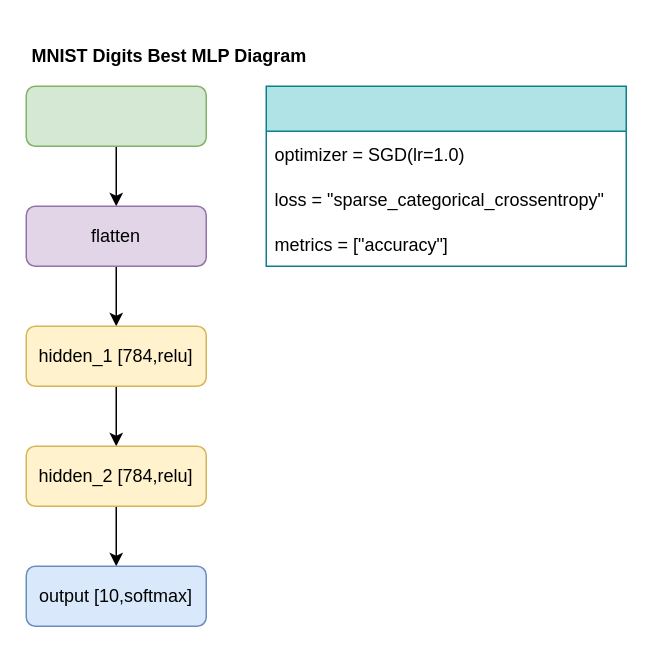
This 653x653 diagram has some shape labels left out. The shapes that lost their labels are listed below. From the top down, each one's box as (x1, y1, x2, y2) in pixels, then its label:
(25, 85, 206, 146): input [(28,28)]
(265, 85, 626, 266): Compile
